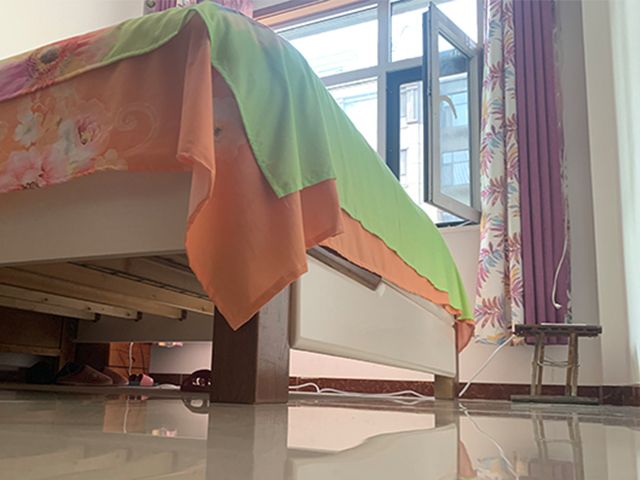bed: (1, 1, 473, 404)
curtain: (477, 1, 576, 348)
slippers: (53, 368, 115, 387), (178, 369, 210, 393), (128, 372, 156, 389)
stool: (511, 324, 603, 405)
wire: (288, 334, 520, 401)
